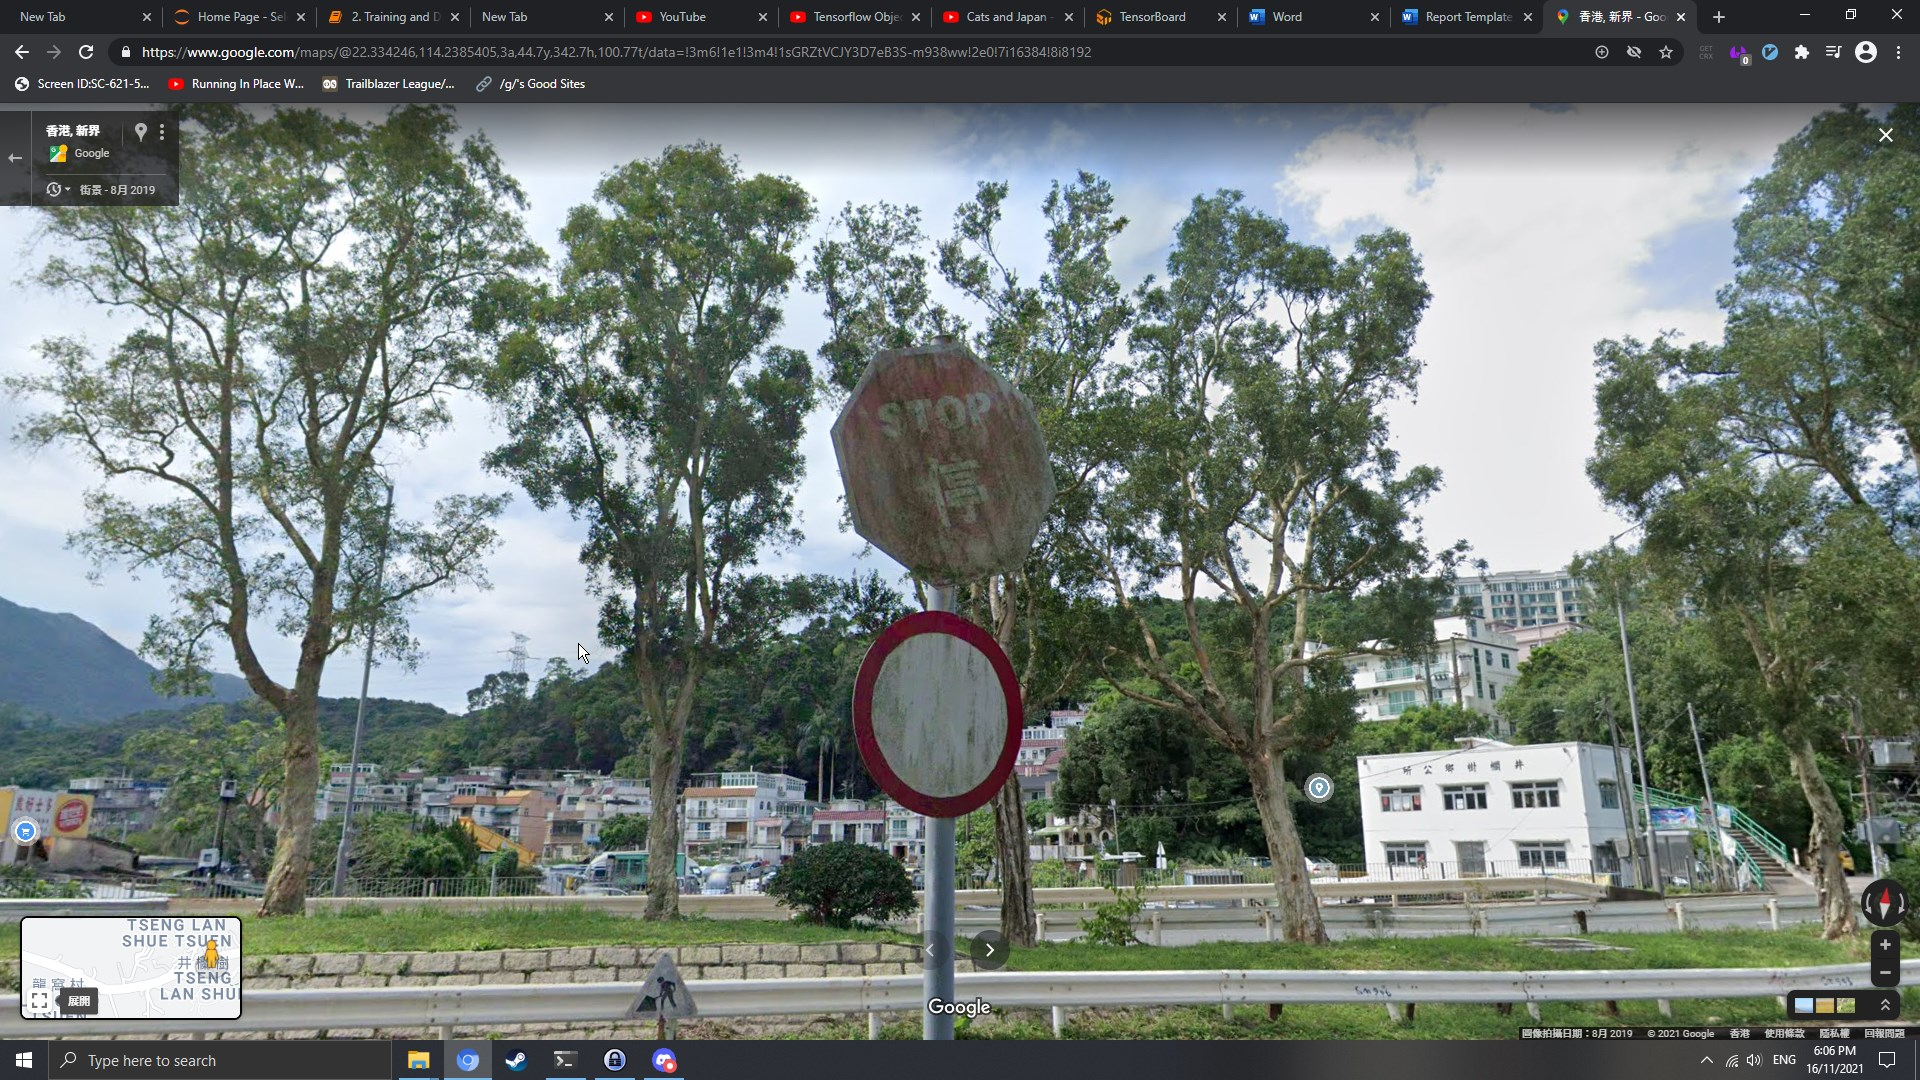Stop: (829, 345, 1059, 589)
